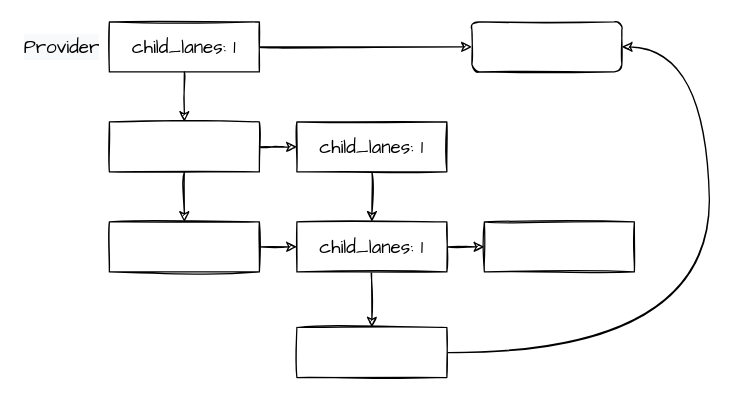
This 731x400 diagram has some shape labels left out. The shapes that lost their labels are listed below. From the top down, each one's centre as x and y in pixels, then its label:
(546,46): Context
(371,352): lanes: 1
